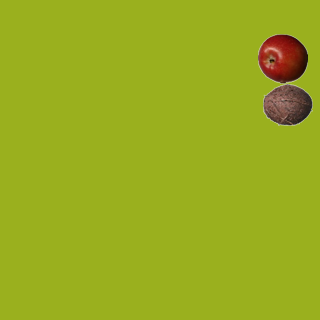Apple Braeburn: (257, 33, 307, 83)
Cocos: (262, 79, 312, 129)
